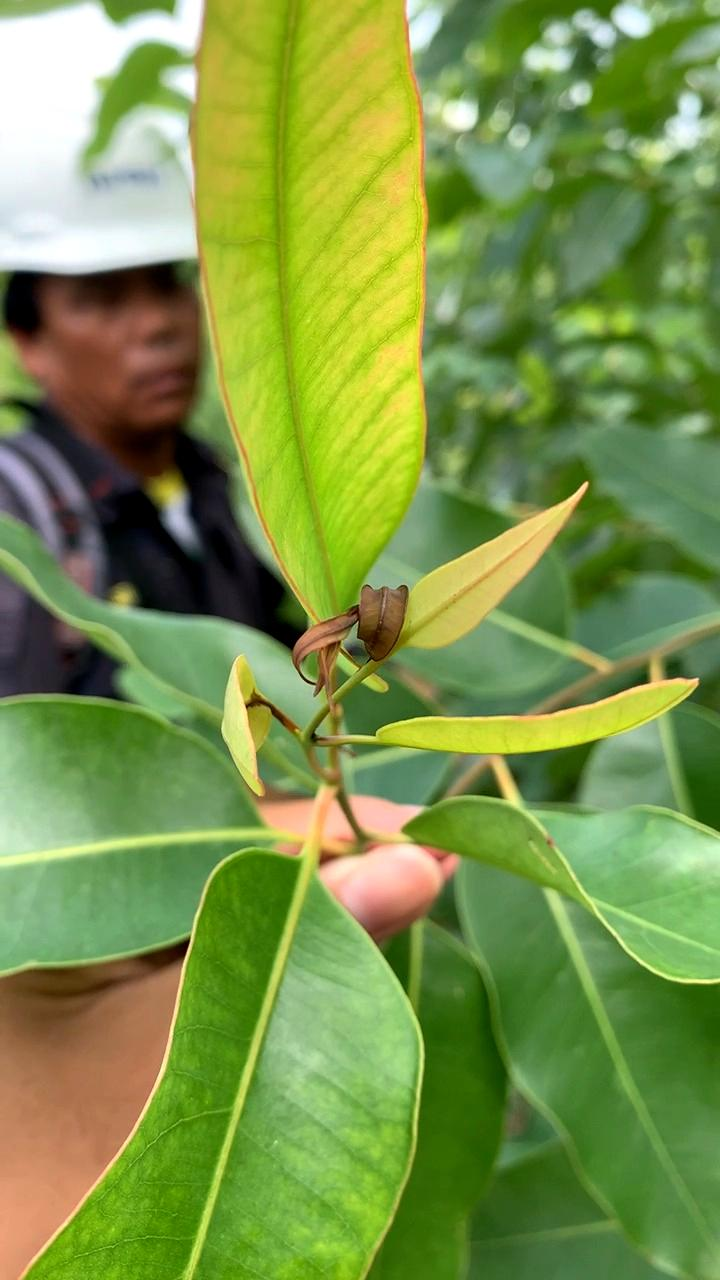Helopeltis-Withered Sprout: (288, 586, 407, 677)
